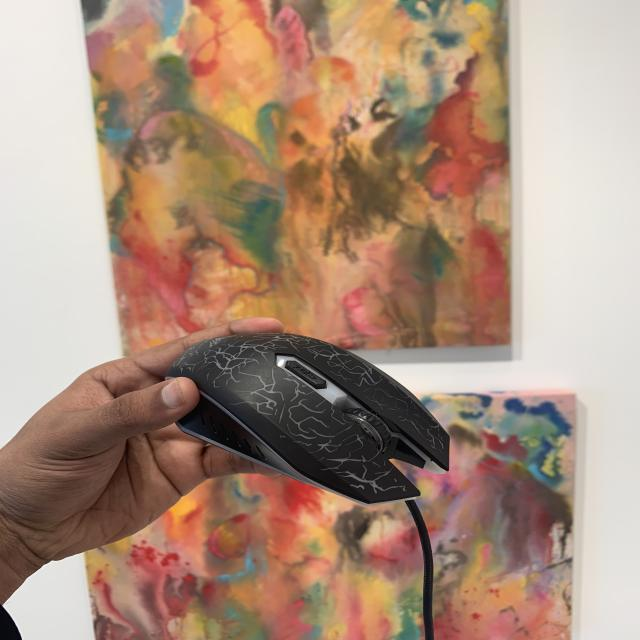Mouse: (139, 306, 489, 518)
